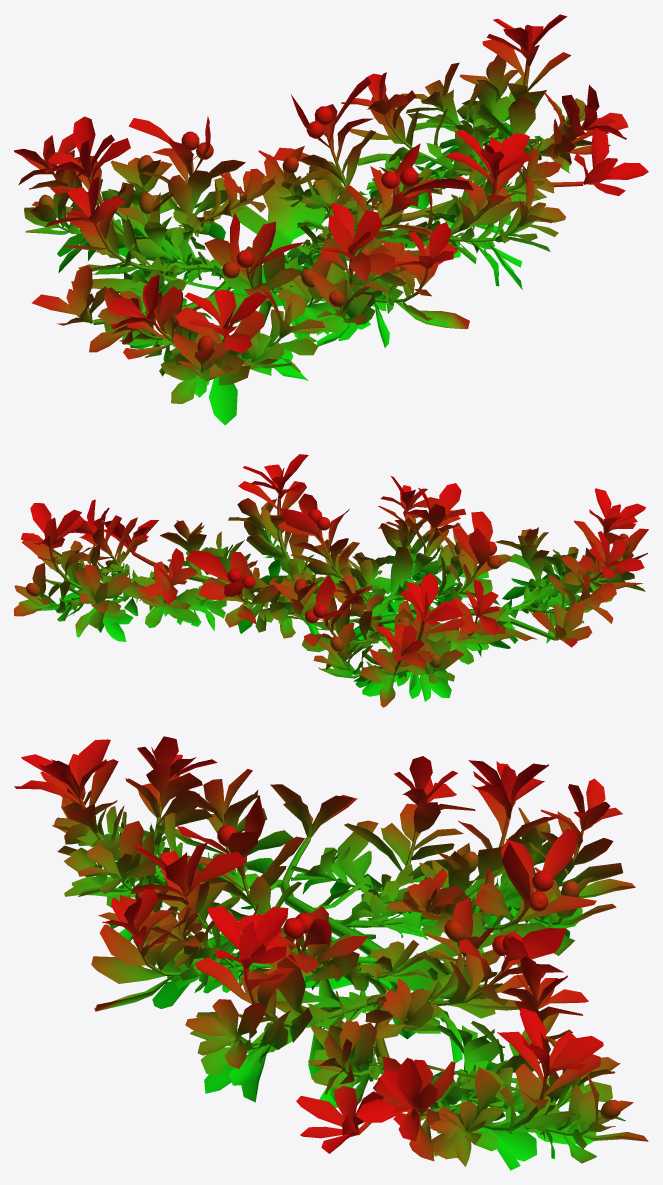
File: Alpine Bearberry_LOD2_Var11_xb0gdazqx.fbx
3 views of the same model, one above another, from view 1: azimuth 30°, elevation 25°; view 2: azimuth 150°, elevation 25°; view 3: azimuth 270°, elevation 25° (orthographic). The views are drawn at different scales.
Visible parts, largest first — view 1: _87en_Var11_LOD2; view 2: _87en_Var11_LOD2; view 3: _87en_Var11_LOD2.
Part boxes in pixels (x1,y1,x2,y2): _87en_Var11_LOD2: [14, 14, 648, 425]; _87en_Var11_LOD2: [14, 454, 648, 707]; _87en_Var11_LOD2: [14, 736, 648, 1170].
Bounding box in the file's own units: 51.09 × 13.13 × 38.33.
